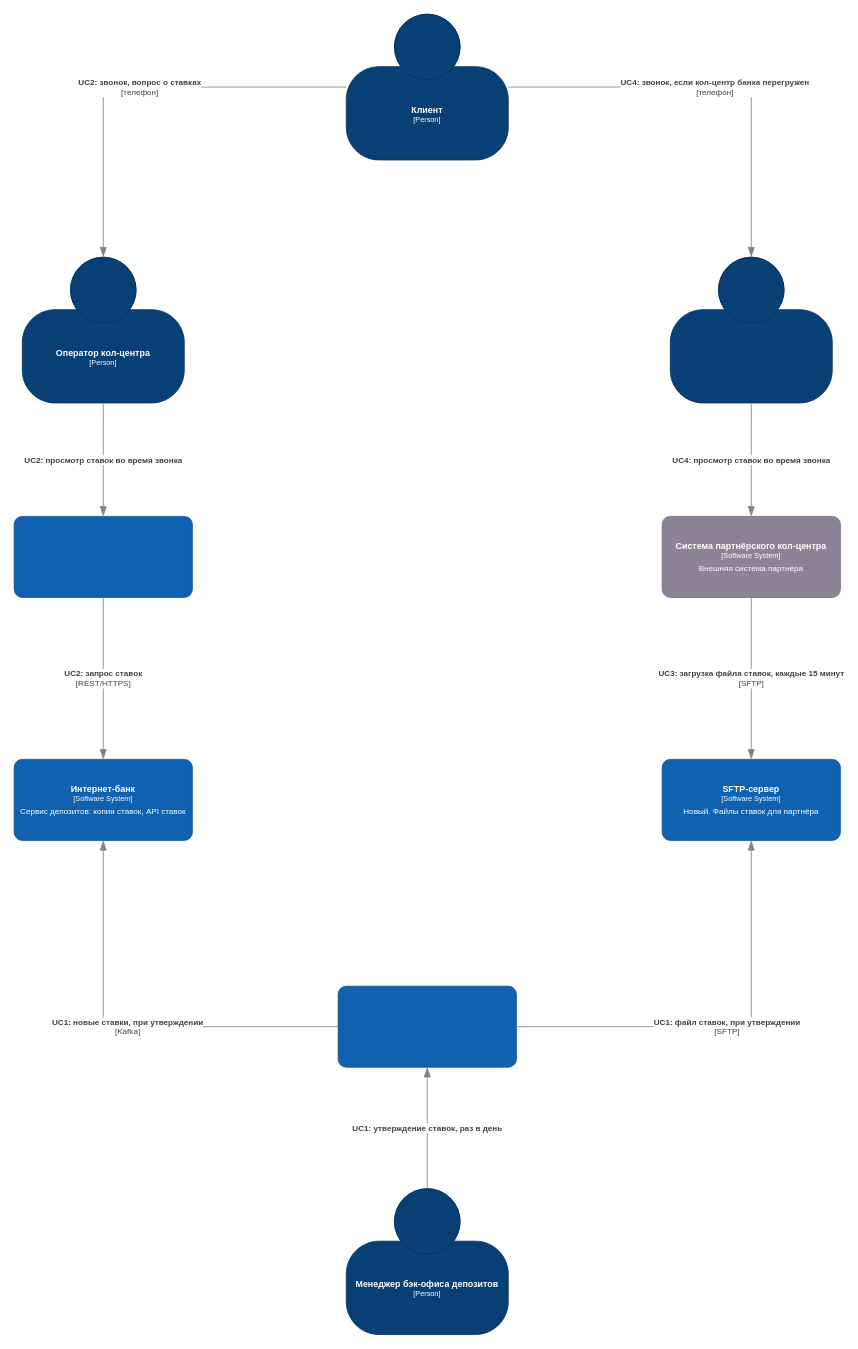
The diagram is 858 pixels wide and 1349 high, and some of its shapes have lost their labels. Each missing label, with the box of its shape:
АБС [Software System] Ведение и утверждение ставок: (337, 985, 516, 1067)
Оператор партнёрского кол-центра [Person]: (669, 256, 832, 403)
Система кол-центра [Software System] Ставки на экране оператора: (13, 516, 192, 597)
